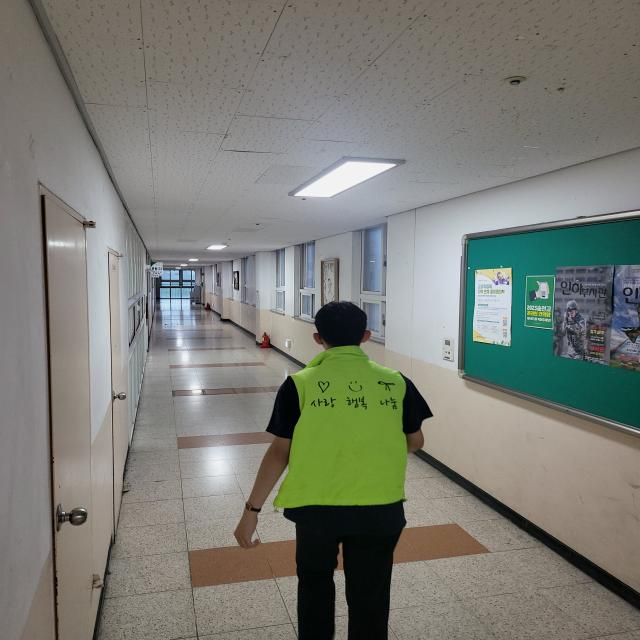weston_spy: (259, 346, 435, 530)
